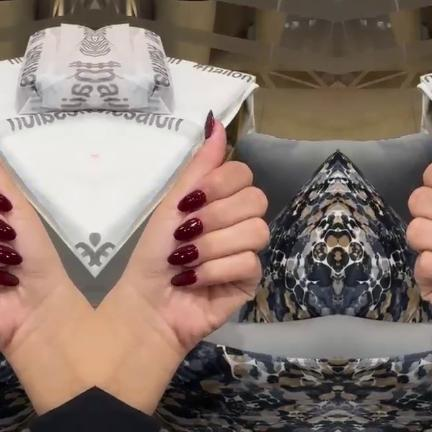Nail: (172, 217, 202, 241), (176, 189, 205, 213), (166, 244, 198, 265), (0, 244, 22, 265), (169, 269, 195, 286), (0, 219, 16, 241), (203, 109, 213, 140), (0, 270, 19, 286), (0, 193, 12, 213)
